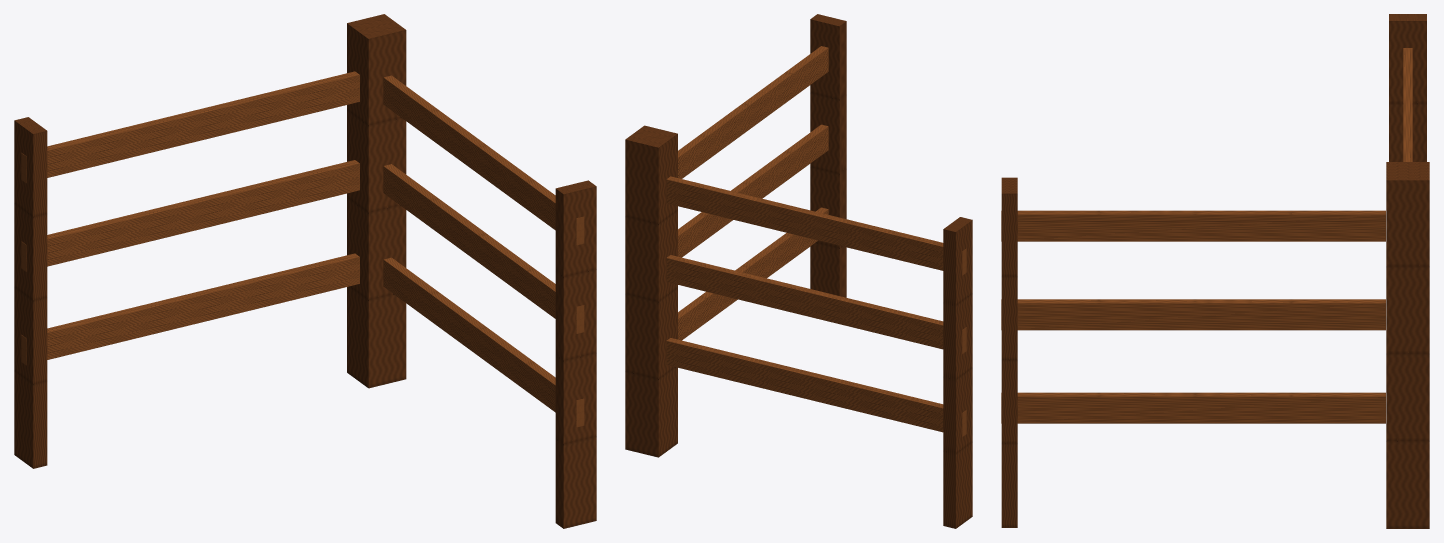
Rendered from fence_corner.glb.
3 views of the same model, side by side, from view 1: azimuth 30°, elevation 25°; view 2: azimuth 150°, elevation 25°; view 3: azimuth 270°, elevation 25° (orthographic). The views are drawn at different scales.
Visible parts, largest first — view 1: fence-corner; view 2: fence-corner; view 3: fence-corner.
Part boxes in pixels (box(x1,y1,x2,y2)): fence-corner: box(14, 14, 596, 528); fence-corner: box(625, 14, 972, 528); fence-corner: box(1001, 14, 1429, 528).
Size of the model in its own units: 1.58 by 1.42 by 1.58.
Materials: 2 (2 with a texture image).
